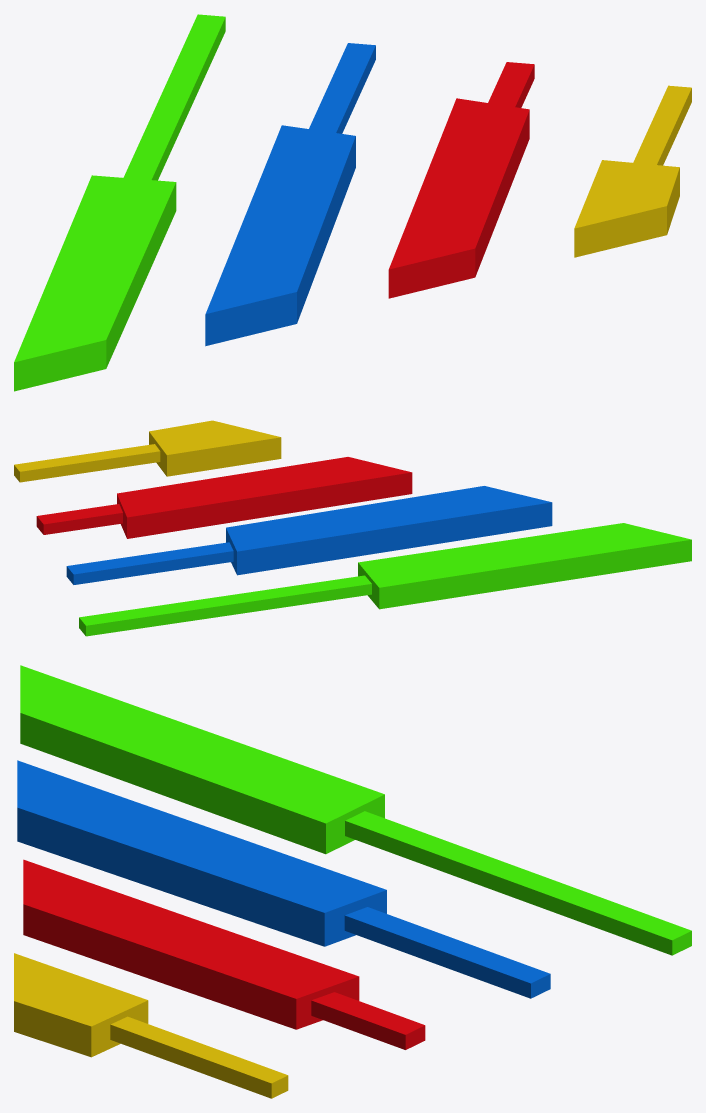
The model's file is nationalgrid.glb.
3 renders of one model, top to bottom at view 1: azimuth 30°, elevation 25°; view 2: azimuth 150°, elevation 25°; view 3: azimuth 270°, elevation 25°, orthographic. The views are drawn at different scales.
Parts seen in each view (by area): view 1: Plane, Plane.005, Plane.007, Plane.006, Plane.001, Plane.002, Plane.004, Plane.003; view 2: Plane.005, Plane, Plane.007, Plane.001, Plane.006, Plane.002, Plane.004, Plane.003; view 3: Plane.005, Plane, Plane.007, Plane.001, Plane.006, Plane.002, Plane.004, Plane.003.
Boxes of the visible parts, <box> form: Plane: <box>14,175,176,391</box>; Plane.005: <box>205,125,355,346</box>; Plane.007: <box>388,98,529,298</box>; Plane.006: <box>574,160,679,257</box>; Plane.001: <box>123,14,225,180</box>; Plane.002: <box>309,43,375,133</box>; Plane.004: <box>633,85,691,165</box>; Plane.003: <box>488,62,534,107</box>; Plane.005: <box>226,486,552,575</box>; Plane: <box>358,523,691,609</box>; Plane.007: <box>117,457,412,538</box>; Plane.001: <box>79,575,371,636</box>; Plane.006: <box>149,420,281,476</box>; Plane.002: <box>66,542,233,584</box>; Plane.004: <box>14,444,160,482</box>; Plane.003: <box>36,504,122,534</box>; Plane.005: <box>17,760,386,946</box>; Plane: <box>20,665,384,854</box>; Plane.007: <box>23,859,359,1029</box>; Plane.001: <box>345,811,691,955</box>; Plane.006: <box>14,953,148,1057</box>; Plane.002: <box>344,907,550,998</box>; Plane.004: <box>110,1016,288,1098</box>; Plane.003: <box>311,992,425,1049</box>.
Bounding box in the file's own units: 1.69 × 0.0651 × 1.18.
